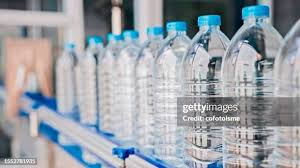Botella: (96, 6, 282, 167)
